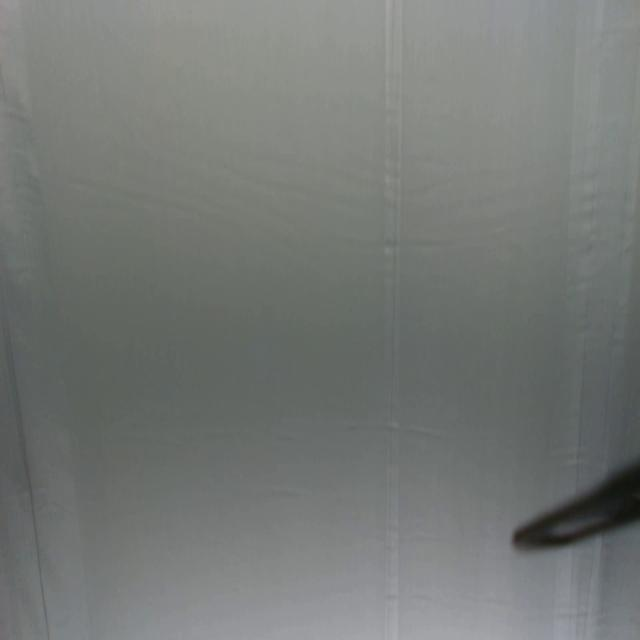crease: (564, 2, 608, 468), (0, 304, 51, 638), (383, 1, 405, 639)
